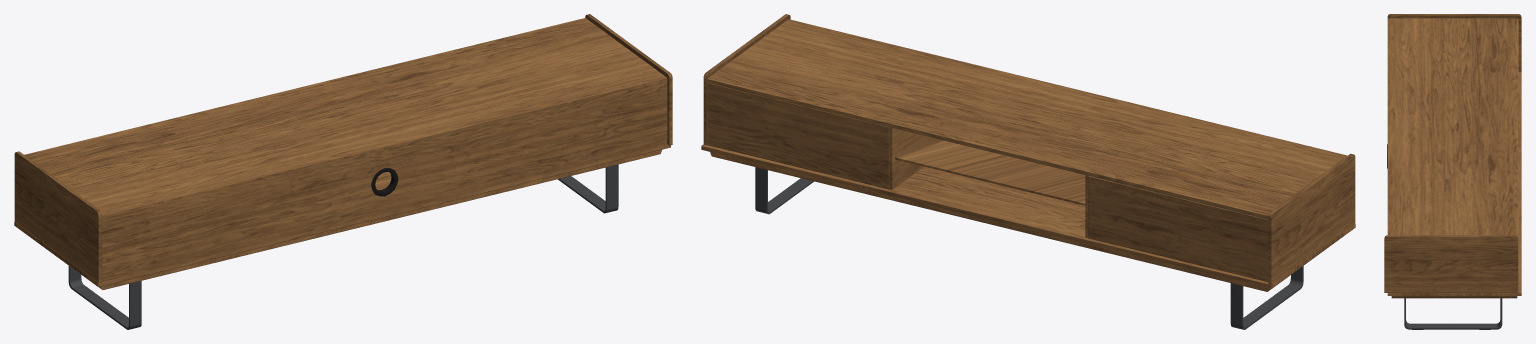
File: abo_B072ZNBRR6.glb
3 views of the same model, side by side, from view 1: azimuth 30°, elevation 25°; view 2: azimuth 150°, elevation 25°; view 3: azimuth 270°, elevation 25° (orthographic). The views are drawn at different scales.
Visible parts, largest first — view 1: "$AFDGAJDPDECAAAAAICBAAAAAAAAADOEEDEBH"; view 2: "$AFDGAJDPDECAAAAAICBAAAAAAAAADOEEDEBH"; view 3: "$AFDGAJDPDECAAAAAICBAAAAAAAAADOEEDEBH".
Boxes of the visible parts, <box> form: "$AFDGAJDPDECAAAAAICBAAAAAAAAADOEEDEBH": <box>14,14,672,329</box>; "$AFDGAJDPDECAAAAAICBAAAAAAAAADOEEDEBH": <box>701,14,1355,329</box>; "$AFDGAJDPDECAAAAAICBAAAAAAAAADOEEDEBH": <box>1384,14,1521,329</box>.
Size of the model in its own units: 1.8 by 0.4154 by 0.4669.
Materials: 1 (1 with a texture image).
